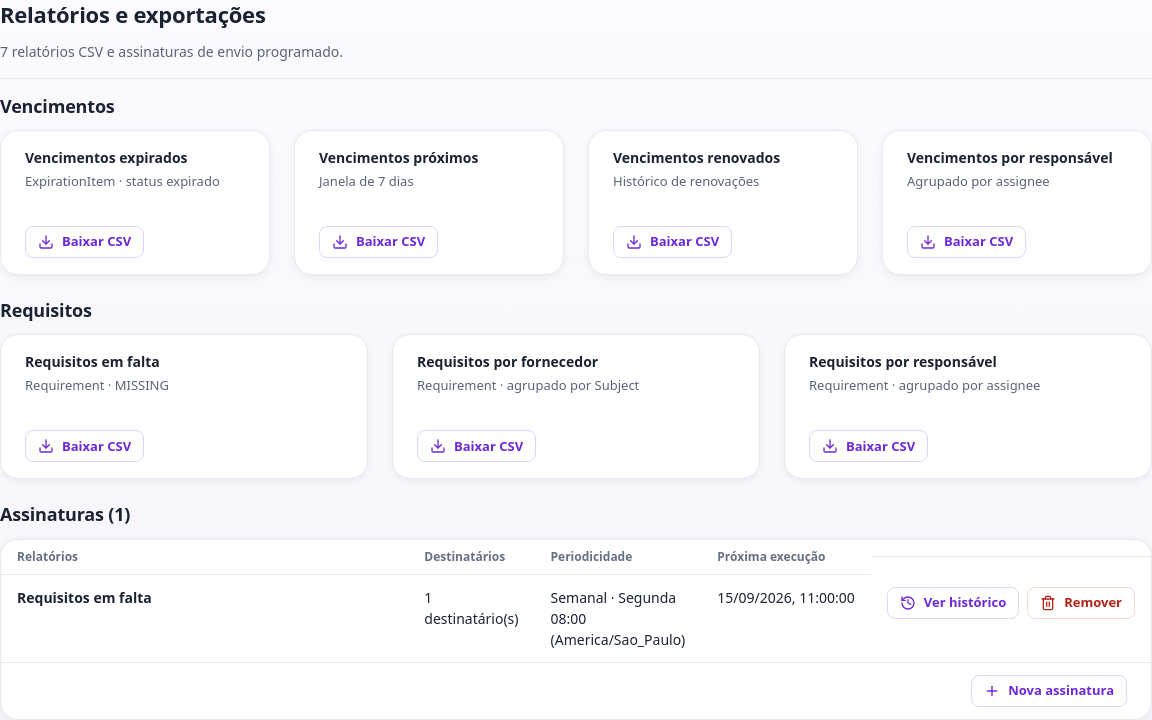
Reports (A16, Block 10) › D-293: a failed history fetch shows a retry notice, never a silent empty list
Click the button "Ver histórico".
click(953, 603)  # box [887,587,1019,619]
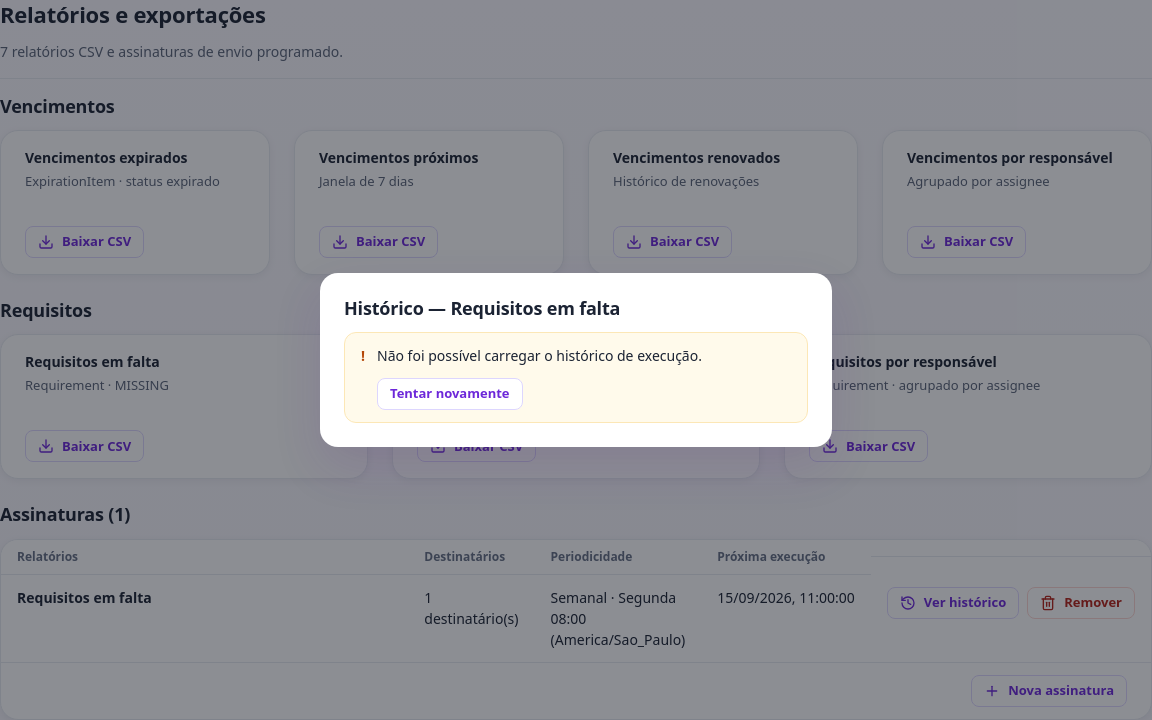
Result: the text "Não foi possível carregar o histórico de execução." is shown at [377,346,702,365]
